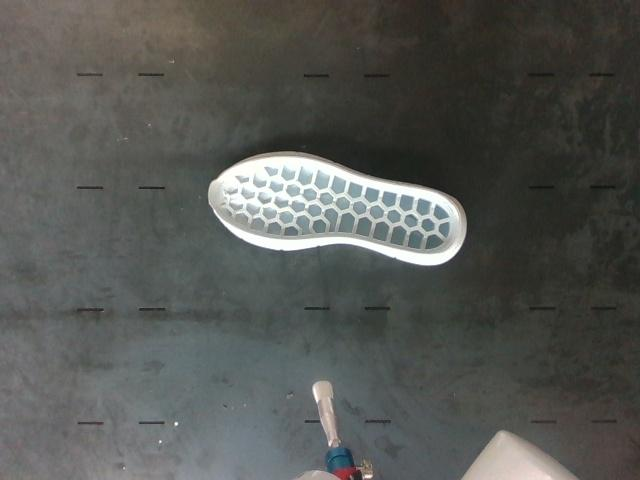shoes: (209, 155, 460, 254)
